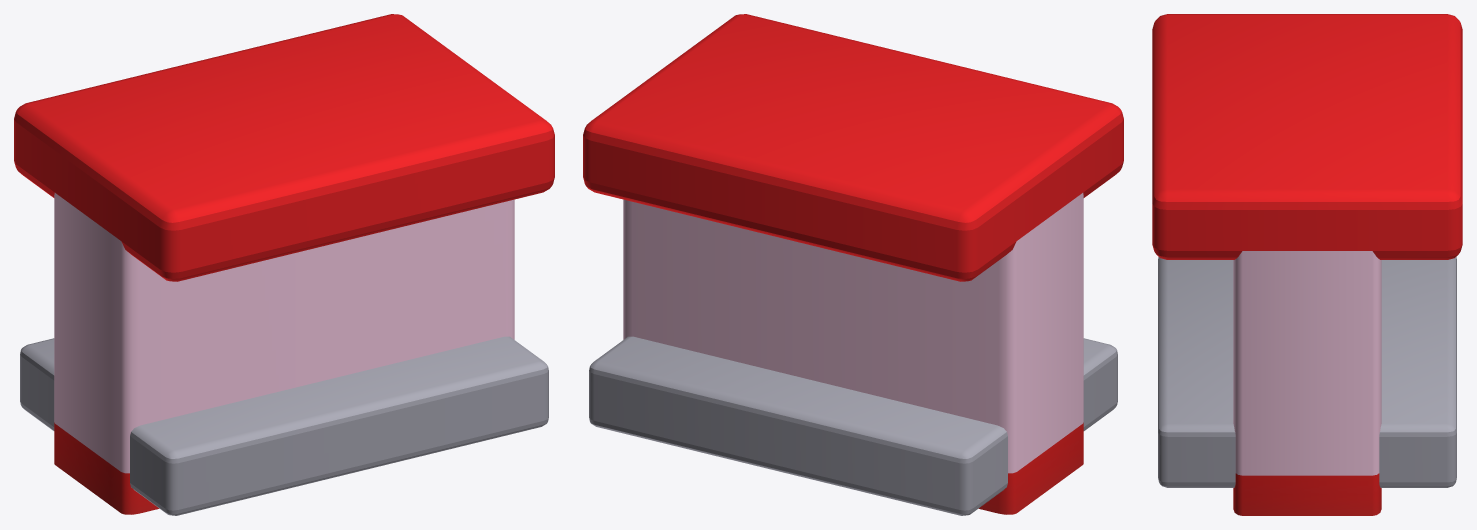
Rendered from StationTable_1_F.glb.
The picture shows the model from 3 angles, left to right: view 1: azimuth 30°, elevation 25°; view 2: azimuth 150°, elevation 25°; view 3: azimuth 270°, elevation 25°; orthographic projection. The views are drawn at different scales.
Visible parts, largest first — view 1: StationTable_1_F; view 2: StationTable_1_F; view 3: StationTable_1_F.
Part boxes in pixels (x1,y1,x2,y2): StationTable_1_F: (14,14,554,515); StationTable_1_F: (583,14,1123,515); StationTable_1_F: (1152,14,1462,515).
Size of the model in its own units: 1.25 by 1 by 0.8781.
1 material, 1 textured.
